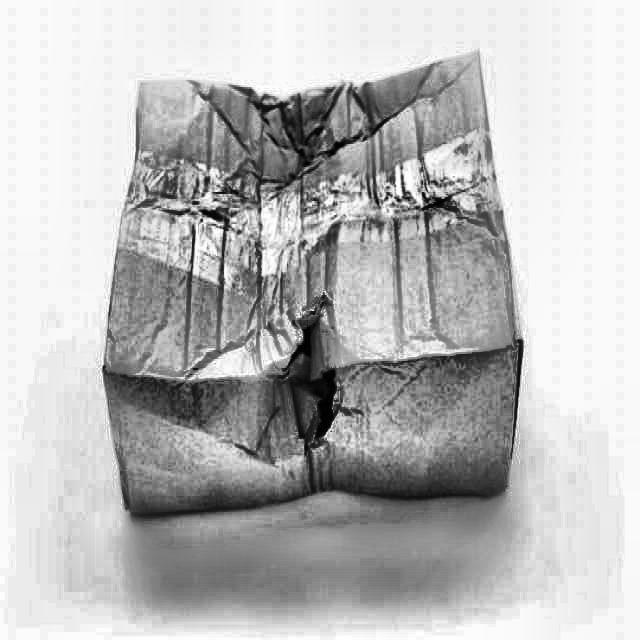box: (89, 43, 530, 548)
hole: (272, 295, 352, 449)
